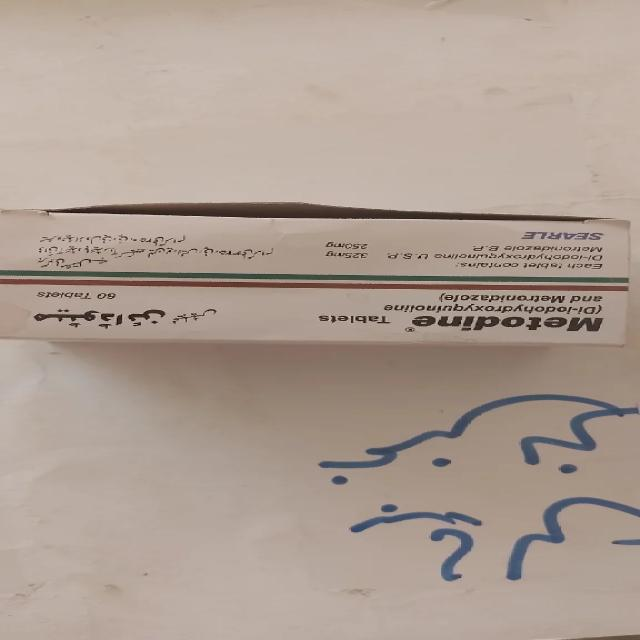drug-name: (402, 314, 606, 336)
